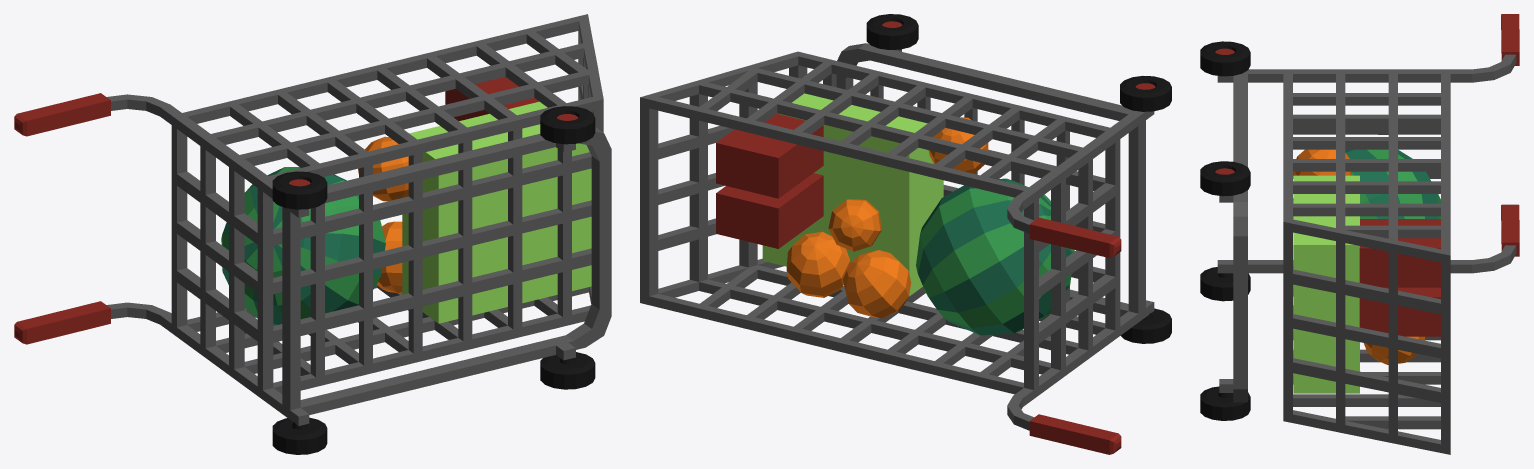
File: cart.fbx
The picture shows the model from 3 angles, left to right: view 1: azimuth 30°, elevation 25°; view 2: azimuth 150°, elevation 25°; view 3: azimuth 270°, elevation 25°; orthographic projection. The views are drawn at different scales.
Visible parts, largest first — view 1: cart; view 2: cart; view 3: cart.
Part boxes in pixels (<box>): cart: <box>14,14,611,454</box>; cart: <box>640,14,1171,454</box>; cart: <box>1200,14,1519,454</box>.
Bounding box in the file's own units: 544 × 255 × 305.
